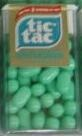grozi_21: (0, 0, 81, 136)
